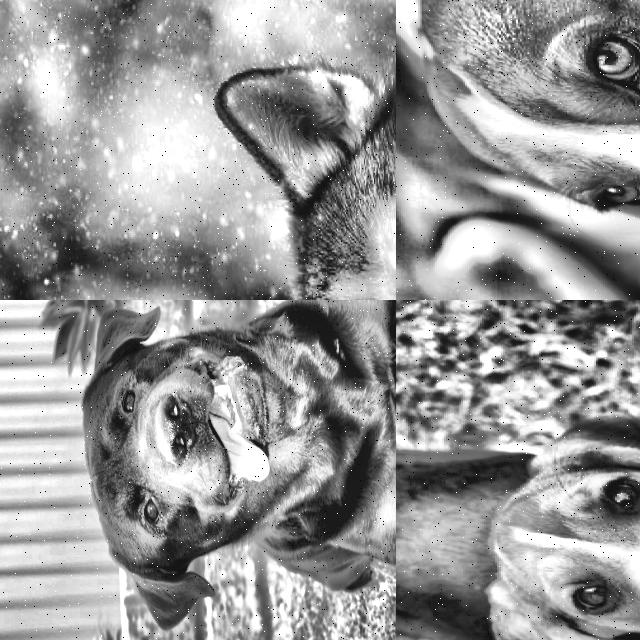beagle: (396, 0, 640, 260), (472, 385, 640, 640)
husky: (188, 3, 396, 300)
rottweiler: (40, 300, 326, 640)
